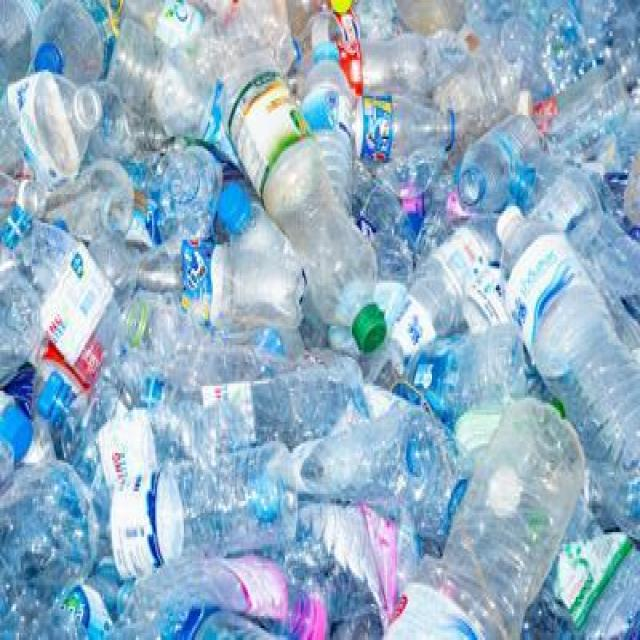heap: (1, 1, 640, 640)
plastic_bottle: (221, 55, 387, 352), (385, 401, 587, 640), (497, 210, 640, 545), (71, 440, 302, 550), (4, 206, 132, 371), (121, 557, 342, 640), (404, 323, 556, 410), (3, 80, 105, 186), (448, 115, 551, 206), (24, 1, 120, 90)
